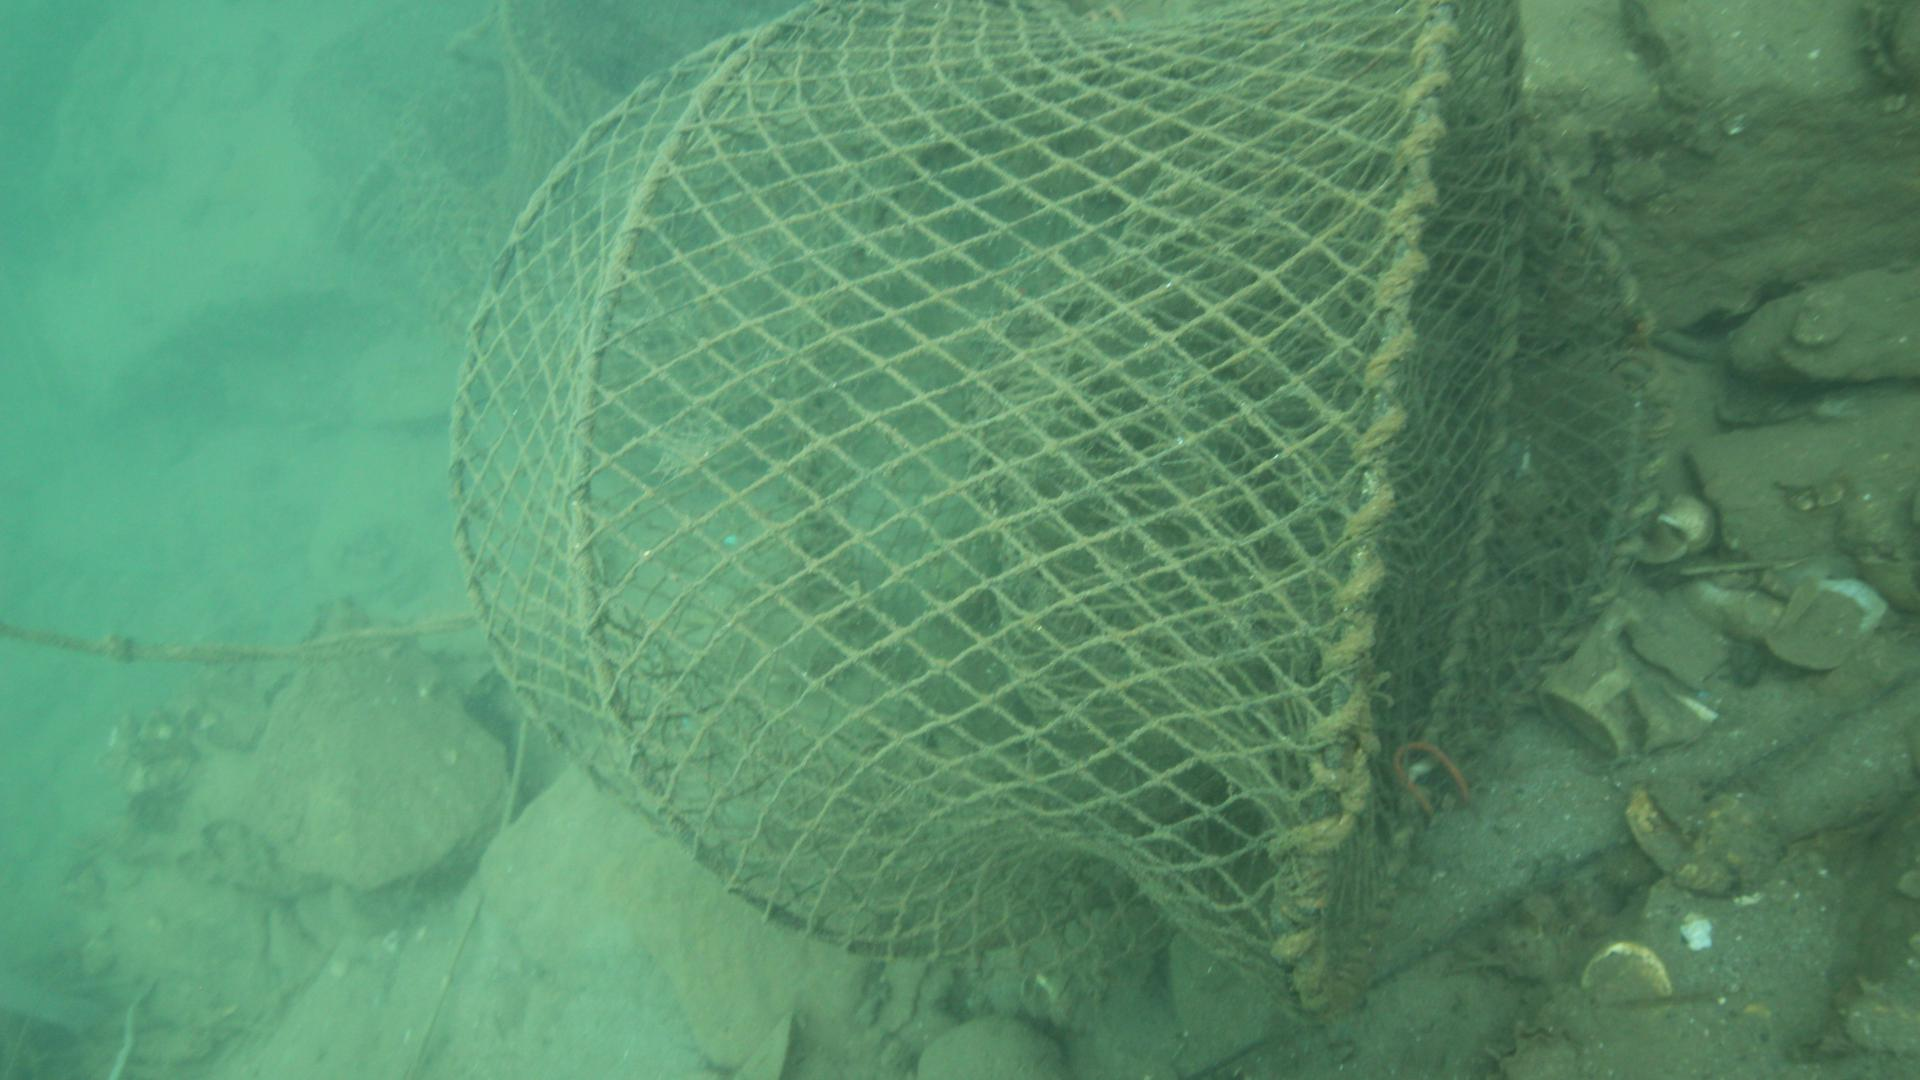rope: (0, 593, 450, 674)
spring fish trap: (446, 0, 1672, 1029)
